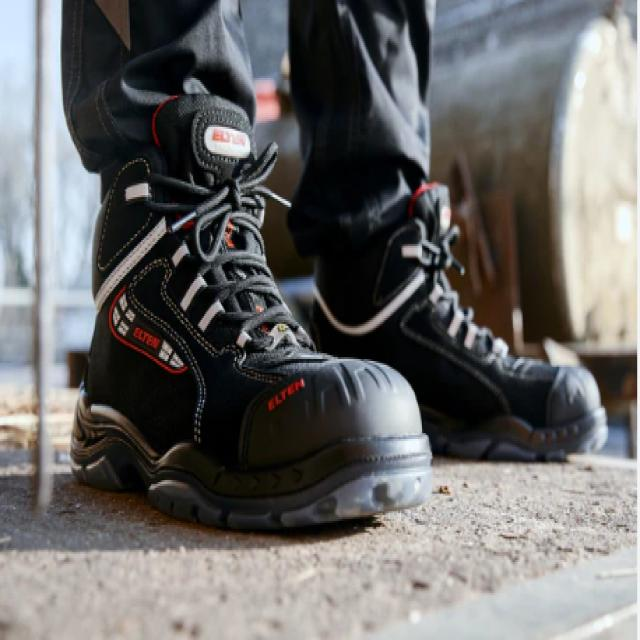boots: (65, 83, 612, 543)
